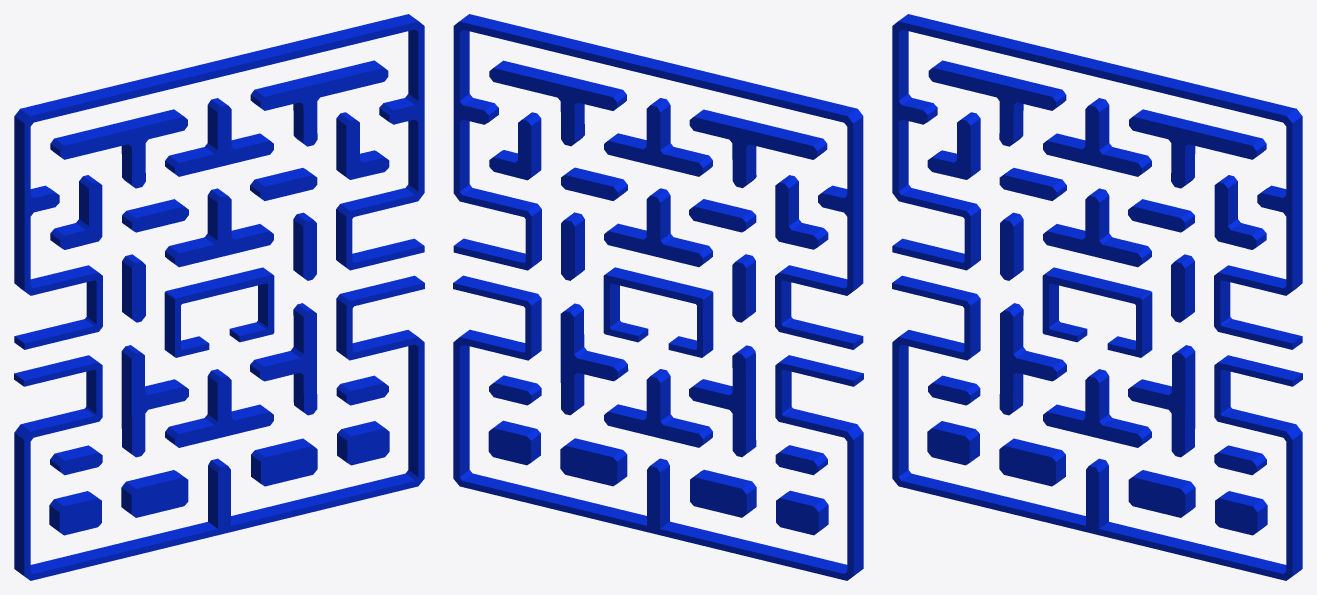
The model's file is map5.fbx.
3 views of the same model, side by side, from view 1: azimuth 30°, elevation 25°; view 2: azimuth 150°, elevation 25°; view 3: azimuth 330°, elevation 25° (orthographic).
Visible parts, largest first — view 1: Plane; view 2: Plane; view 3: Plane.
Part boxes in pixels (<box>): Plane: <box>14,14,424,580</box>; Plane: <box>453,14,863,580</box>; Plane: <box>892,14,1302,580</box>.
Bounding box in the file's own units: 586 × 650 × 27.08.
